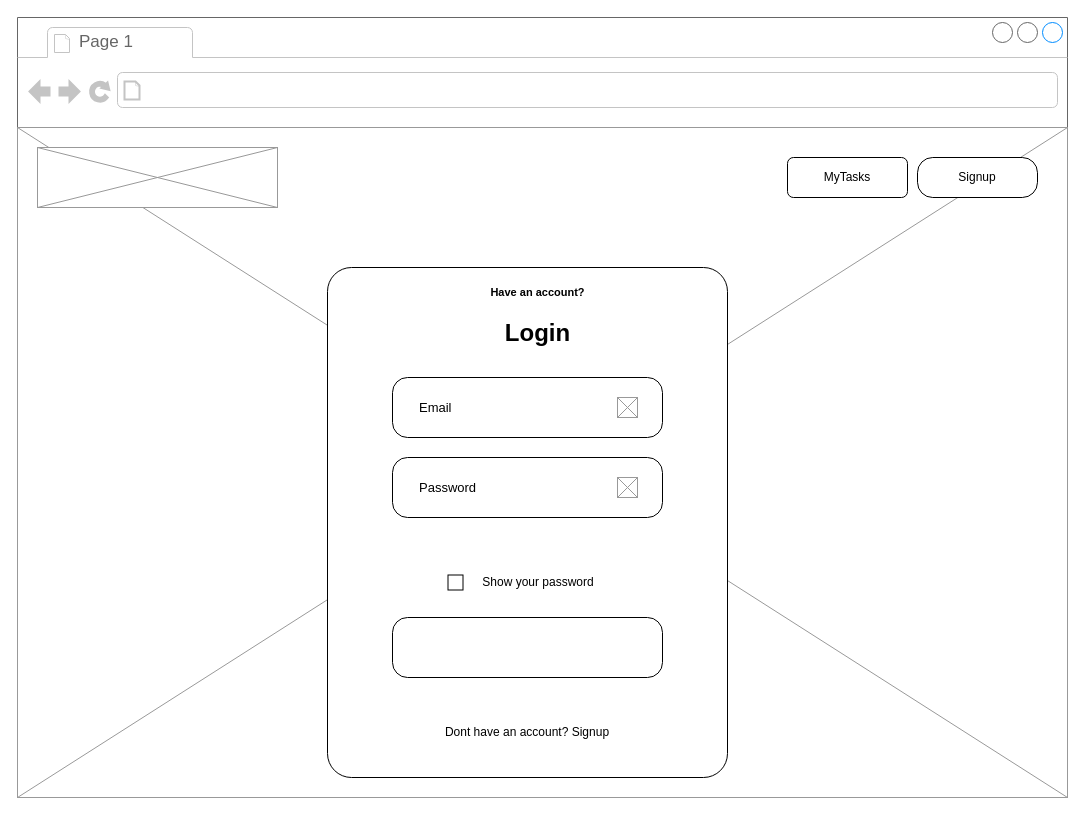
The diagram is 1085 pixels wide and 815 high, and some of its shapes have lost their labels. Here are the shapes that lost their labels. From the top down, the centre of each, then its label:
At point (272, 90): "https://www.default.com".
At point (527, 647): "Sign Up".
